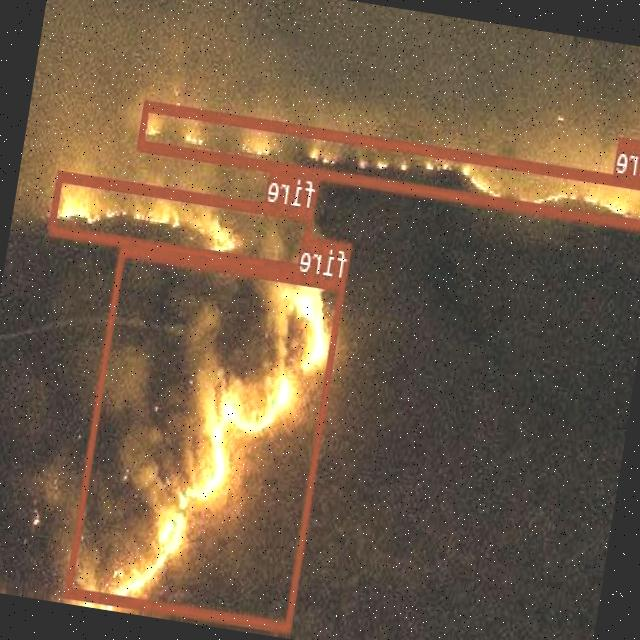fire: (66, 244, 348, 630), (138, 99, 640, 230), (49, 170, 314, 274)
